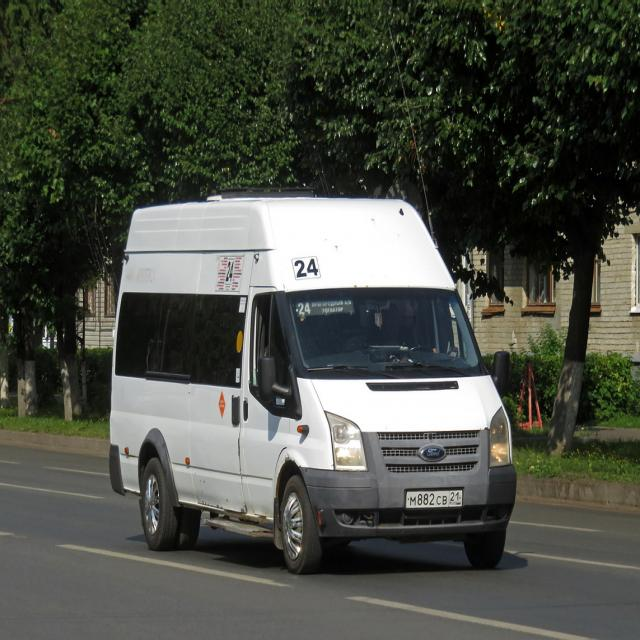number-of-bus: (294, 296, 316, 323), (297, 257, 320, 277)
